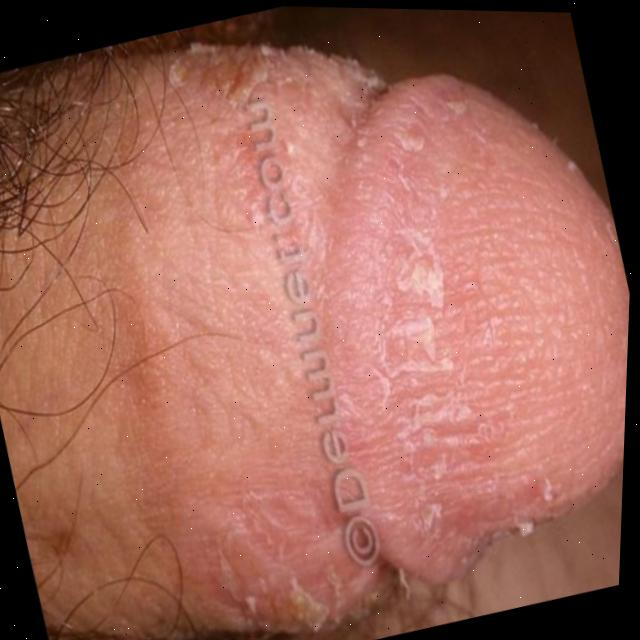Eczema: (67, 2, 640, 640)
